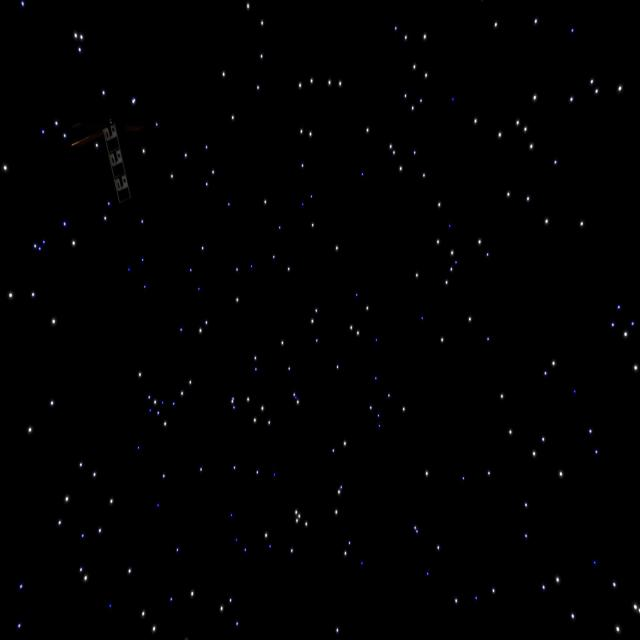satellite: (61, 110, 167, 208)
